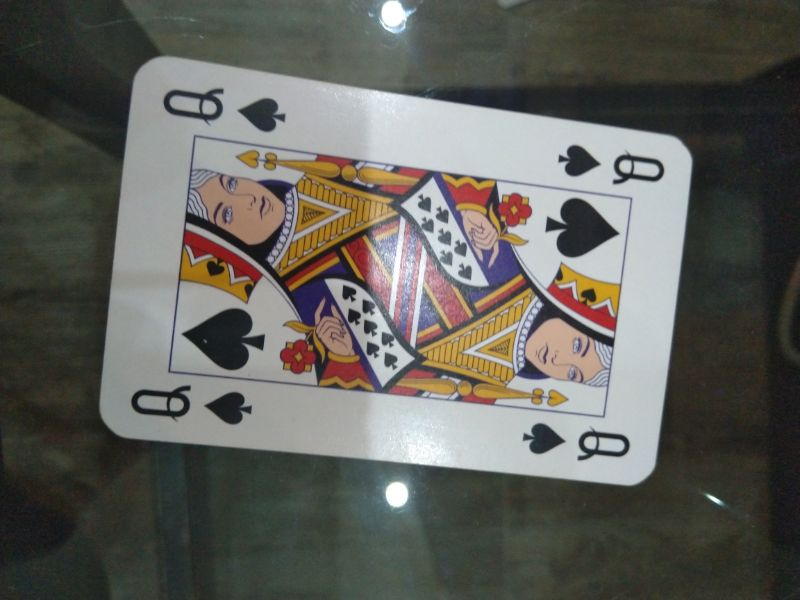Qs: (156, 79, 294, 138), (118, 376, 257, 432), (553, 136, 669, 191), (518, 414, 639, 464)
